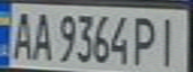3: (75, 10, 93, 63)
4: (109, 11, 133, 66)
6: (90, 11, 115, 65)
9: (54, 9, 78, 63)
A: (6, 7, 36, 61), (30, 8, 57, 62)
I: (154, 12, 187, 69)
P: (130, 12, 163, 66)
